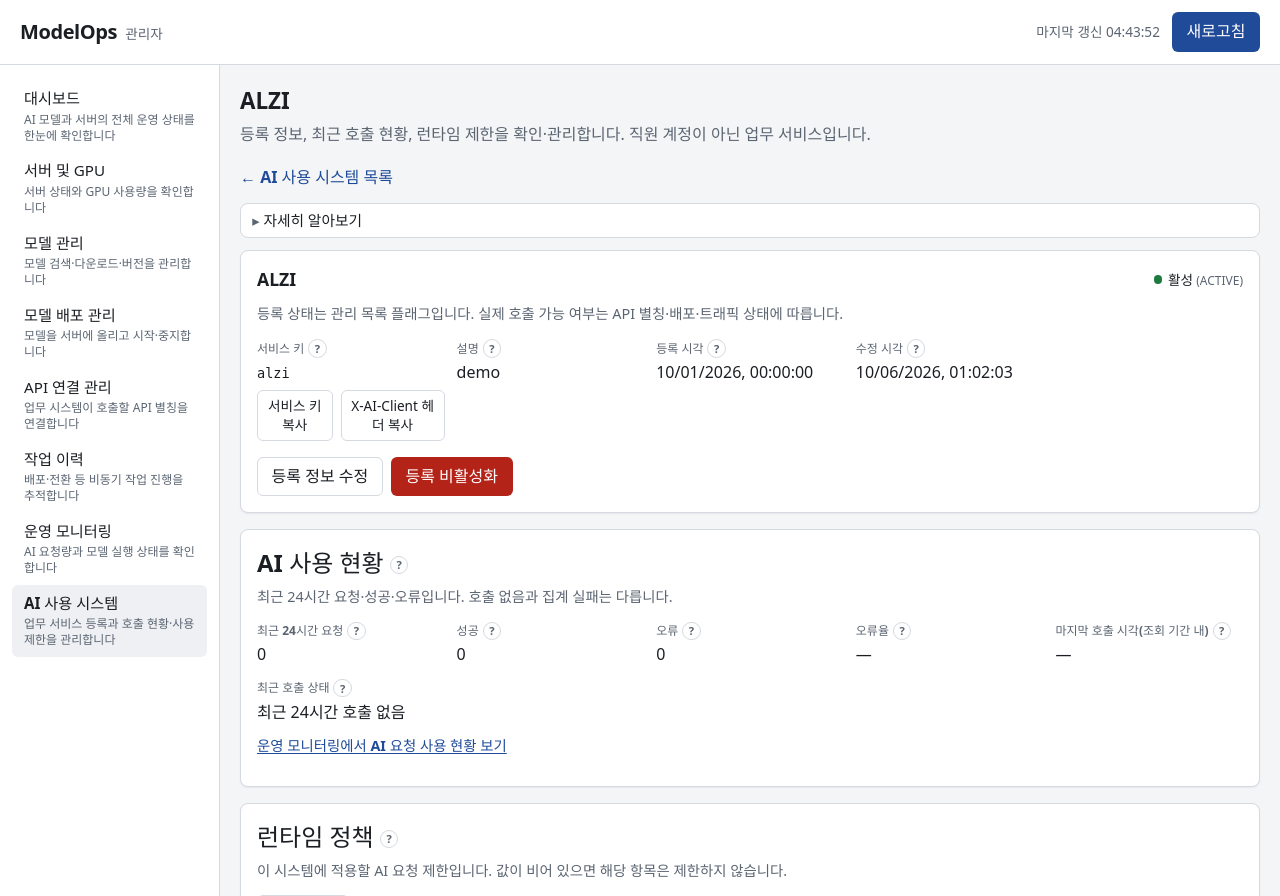
it: ClientDetailPage › clears on authoritative client 404
The image size is (1280, 896).
Expected: the 2nd heading "ALZI" is shown, [257,267,296,292]
Click the button "새로고침" at (1216, 32), box [1172,12,1260,52]
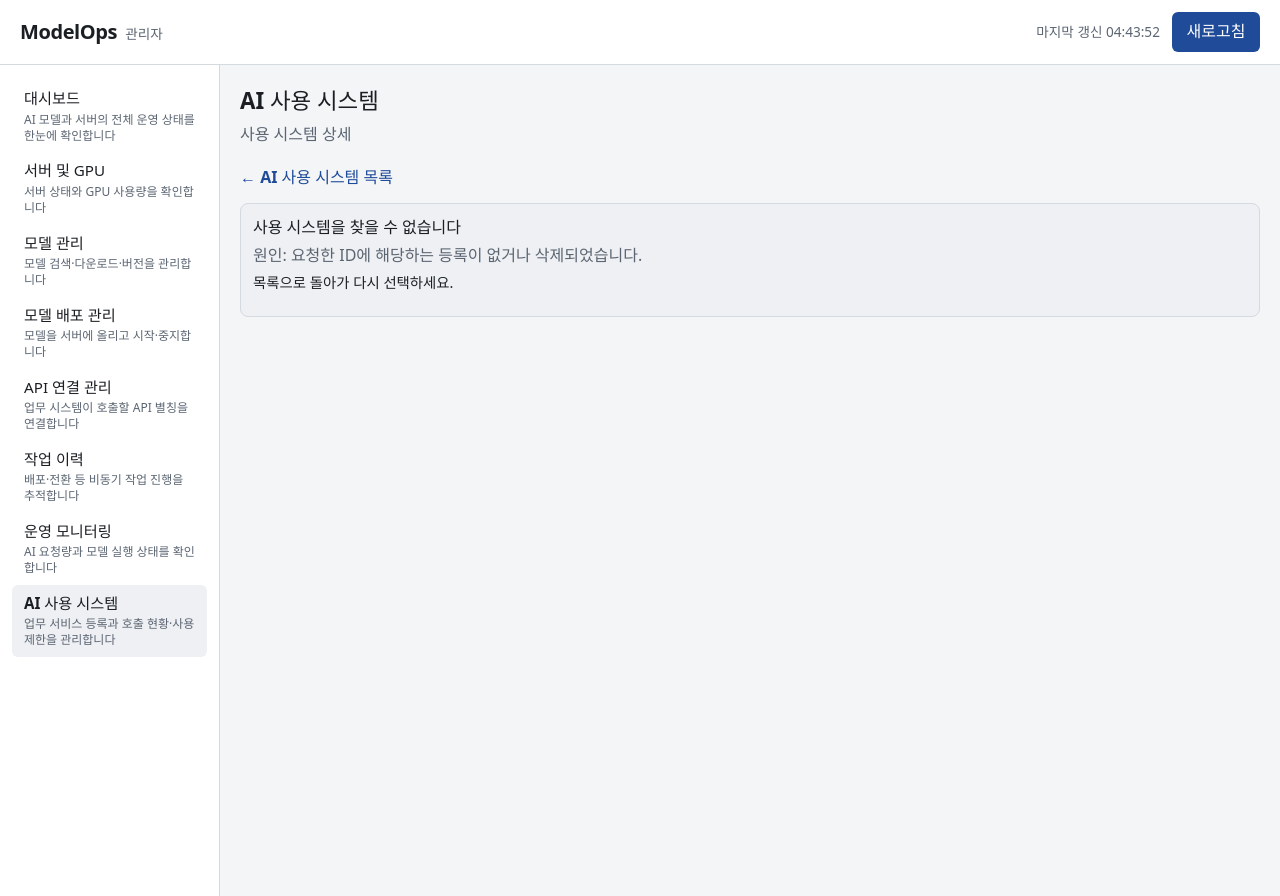
Expected: the text "사용 시스템을 찾을 수 없습니다" is shown, [253,216,461,238]
Expected: the heading "ALZI" is gone
